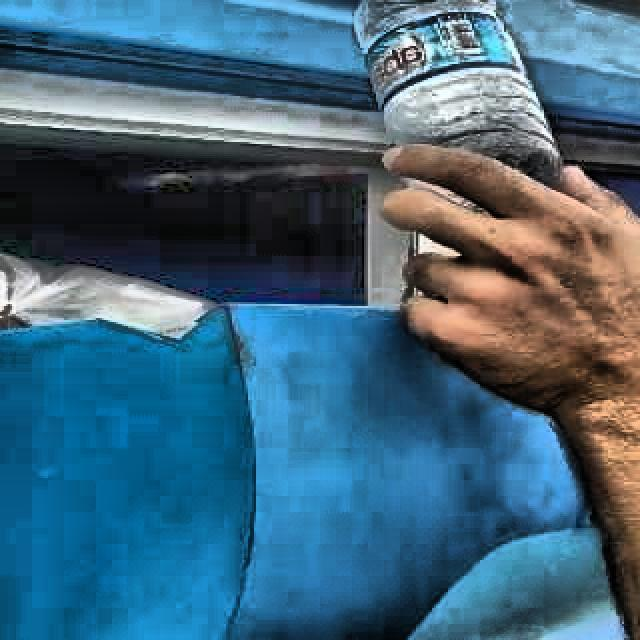plastic: (355, 0, 560, 180)
